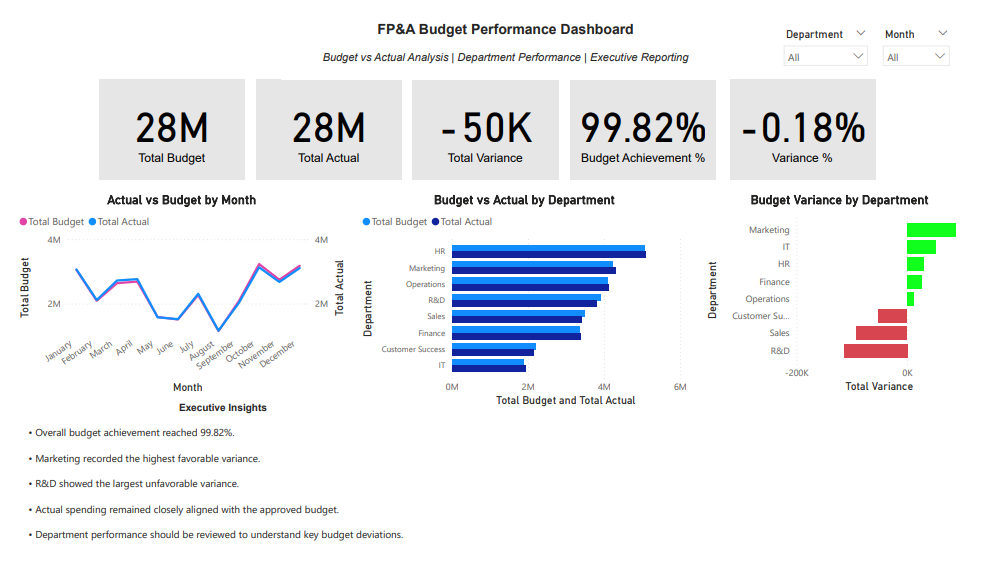

This screenshot's page, from the dashboard's own definition file:
{"tool":"powerbi","page":{"name":"Page 1","canvas":[1280,720],"ordinal":0},"visuals":[{"type":"card","fields":{"Values":["Table (2).Total Budget"]},"box":[111.7,82.6,194.3,134.4],"z":0},{"type":"card","fields":{"Values":["Table (2).Total Actual"]},"box":[320.6,82.6,194.3,134.4],"z":1000},{"type":"card","fields":{"Values":["Table (2).Total Variance"]},"box":[529.5,82.6,194.3,134.4],"z":2000},{"type":"card","fields":{"Values":["Table (2).Budget Achievement %"]},"box":[740,82.6,194.3,134.4],"z":3000},{"type":"card","fields":{"Values":["Table (2).Variance %"]},"box":[952.1,82.6,194.3,134.4],"z":4000},{"type":"lineChart","title":"Actual vs Budget by Month","fields":{"Category":["Fact_Finance.Month.Variation.Date Hierarchy.Month"],"Y":["Table (2).Total Budget"],"Y2":["Table (2).Total Actual"]},"box":[0,233.2,443.7,272],"z":5000},{"type":"textbox","box":[354.6,0,597.5,82.6],"z":6000},{"type":"clusteredBarChart","title":"Budget vs Actual by Department","fields":{"Category":["Fact_Finance.Department"],"Y":["Table (2).Total Budget","Table (2).Total Actual"]},"box":[456.6,233.2,443.7,289.8],"z":7000},{"type":"textbox","box":[13,505.2,527.9,215.4],"z":8000},{"type":"slicer","fields":{"Values":["Fact_Finance.Department"]},"box":[1013.6,9.7,132.8,64.8],"z":9000},{"type":"slicer","fields":{"Values":["Fact_Finance.Month"]},"box":[1146.4,9.7,108.5,64.8],"z":10000},{"type":"clusteredBarChart","title":"Budget Variance by Department","fields":{"Category":["Fact_Finance.Department"],"Y":["Table (2).Total Variance"]},"box":[916.5,233.2,364.3,272],"z":11000}]}

Visuals, with their boxes in screenshot pixels (x1, y1, x2, y2), scaled from the page's 1280x720 canvas onto the 991x574 screenshot:
card - Table (2).Total Budget: rect(86, 66, 237, 173)
card - Table (2).Total Actual: rect(248, 66, 399, 173)
card - Table (2).Total Variance: rect(410, 66, 560, 173)
card - Table (2).Budget Achievement %: rect(573, 66, 723, 173)
card - Table (2).Variance %: rect(737, 66, 888, 173)
"Actual vs Budget by Month" lineChart: rect(0, 186, 344, 403)
textbox: rect(275, 0, 737, 66)
"Budget vs Actual by Department" clusteredBarChart: rect(354, 186, 697, 417)
textbox: rect(10, 403, 419, 573)
slicer - Fact_Finance.Department: rect(785, 8, 888, 59)
slicer - Fact_Finance.Month: rect(888, 8, 972, 59)
"Budget Variance by Department" clusteredBarChart: rect(710, 186, 990, 403)
